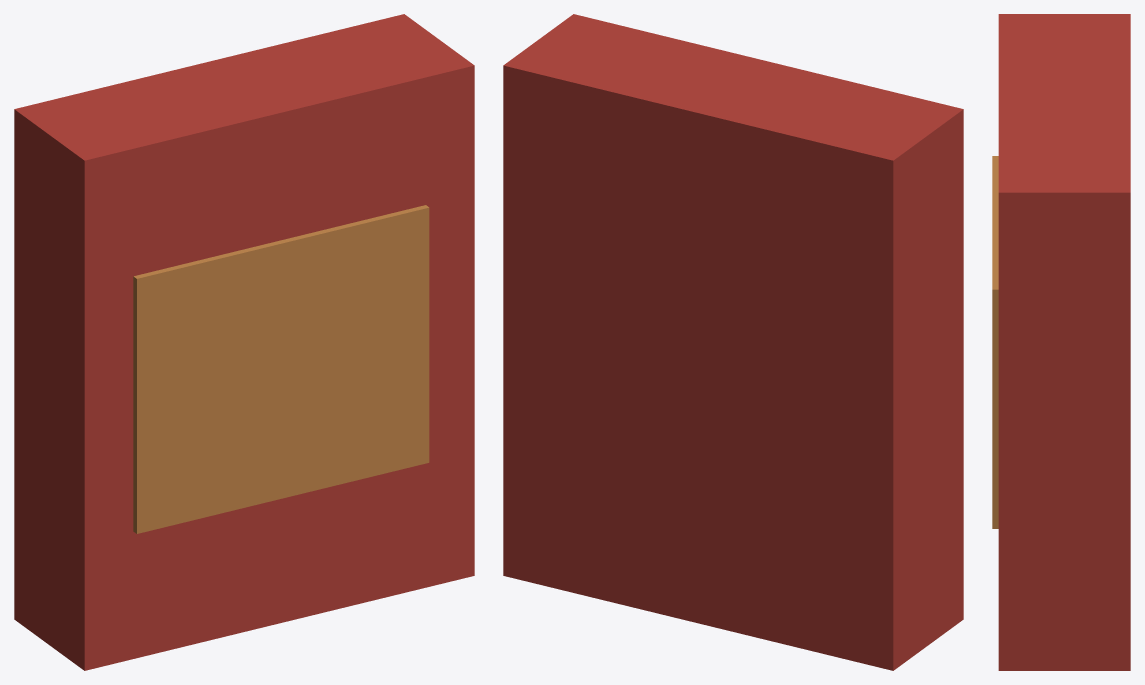
The model's file is FD_CrackerBox_01.glb.
3 views of the same model, side by side, from view 1: azimuth 30°, elevation 25°; view 2: azimuth 150°, elevation 25°; view 3: azimuth 270°, elevation 25° (orthographic). The views are drawn at different scales.
Visible parts, largest first — view 1: FD_CrackerBox_01; view 2: FD_CrackerBox_01; view 3: FD_CrackerBox_01.
Boxes of the visible parts, bbox=[...] form: FD_CrackerBox_01: bbox=[14, 14, 474, 670]; FD_CrackerBox_01: bbox=[503, 14, 963, 670]; FD_CrackerBox_01: bbox=[992, 14, 1130, 670].
Size of the model in its own units: 0.16 by 0.2 by 0.0525.
1 material, 1 textured.
